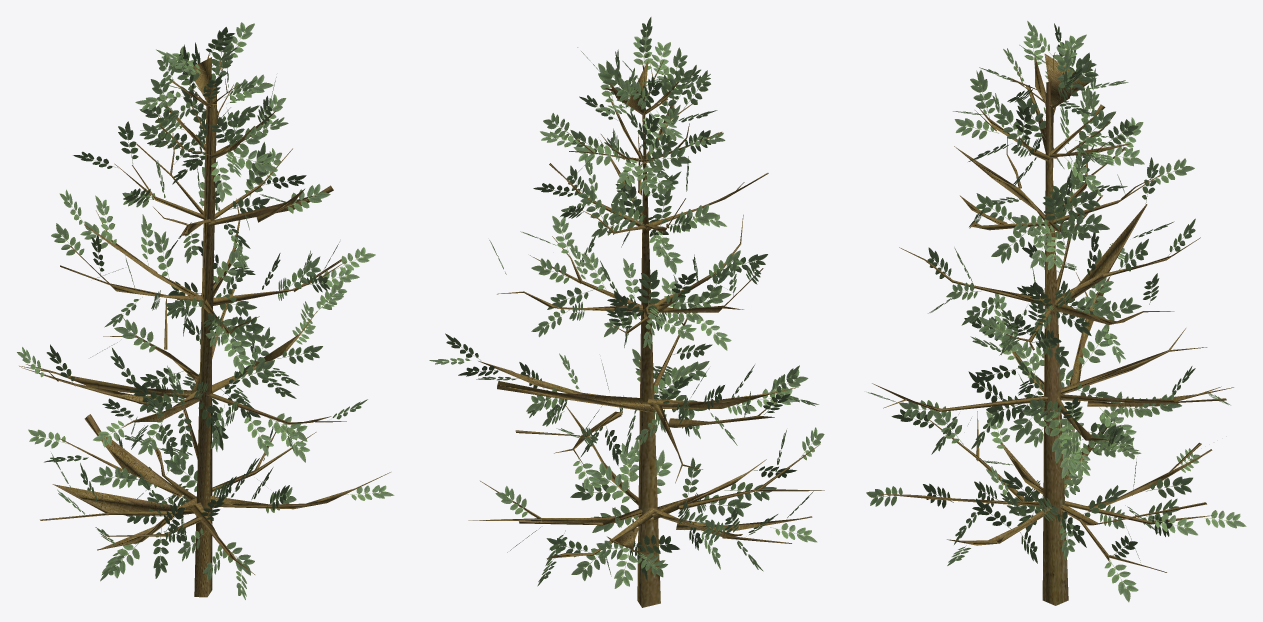
3 renders of one model, left to right at view 1: azimuth 30°, elevation 25°; view 2: azimuth 150°, elevation 25°; view 3: azimuth 270°, elevation 25°, orthographic. The views are drawn at different scales.
Parts seen in each view (by area): view 1: leaves_1_low, tree_low; view 2: leaves_1_low, tree_low; view 3: leaves_1_low, tree_low.
Part boxes in pixels (x1,y1,x2,y2): leaves_1_low: (17,22,394,599); tree_low: (19,52,390,597); leaves_1_low: (429,17,824,588); tree_low: (468,59,824,607); leaves_1_low: (866,21,1246,602); tree_low: (872,52,1233,605).
Bounding box in the file's own units: 4.27 × 6.66 × 4.01.
2 materials, 2 textured.
